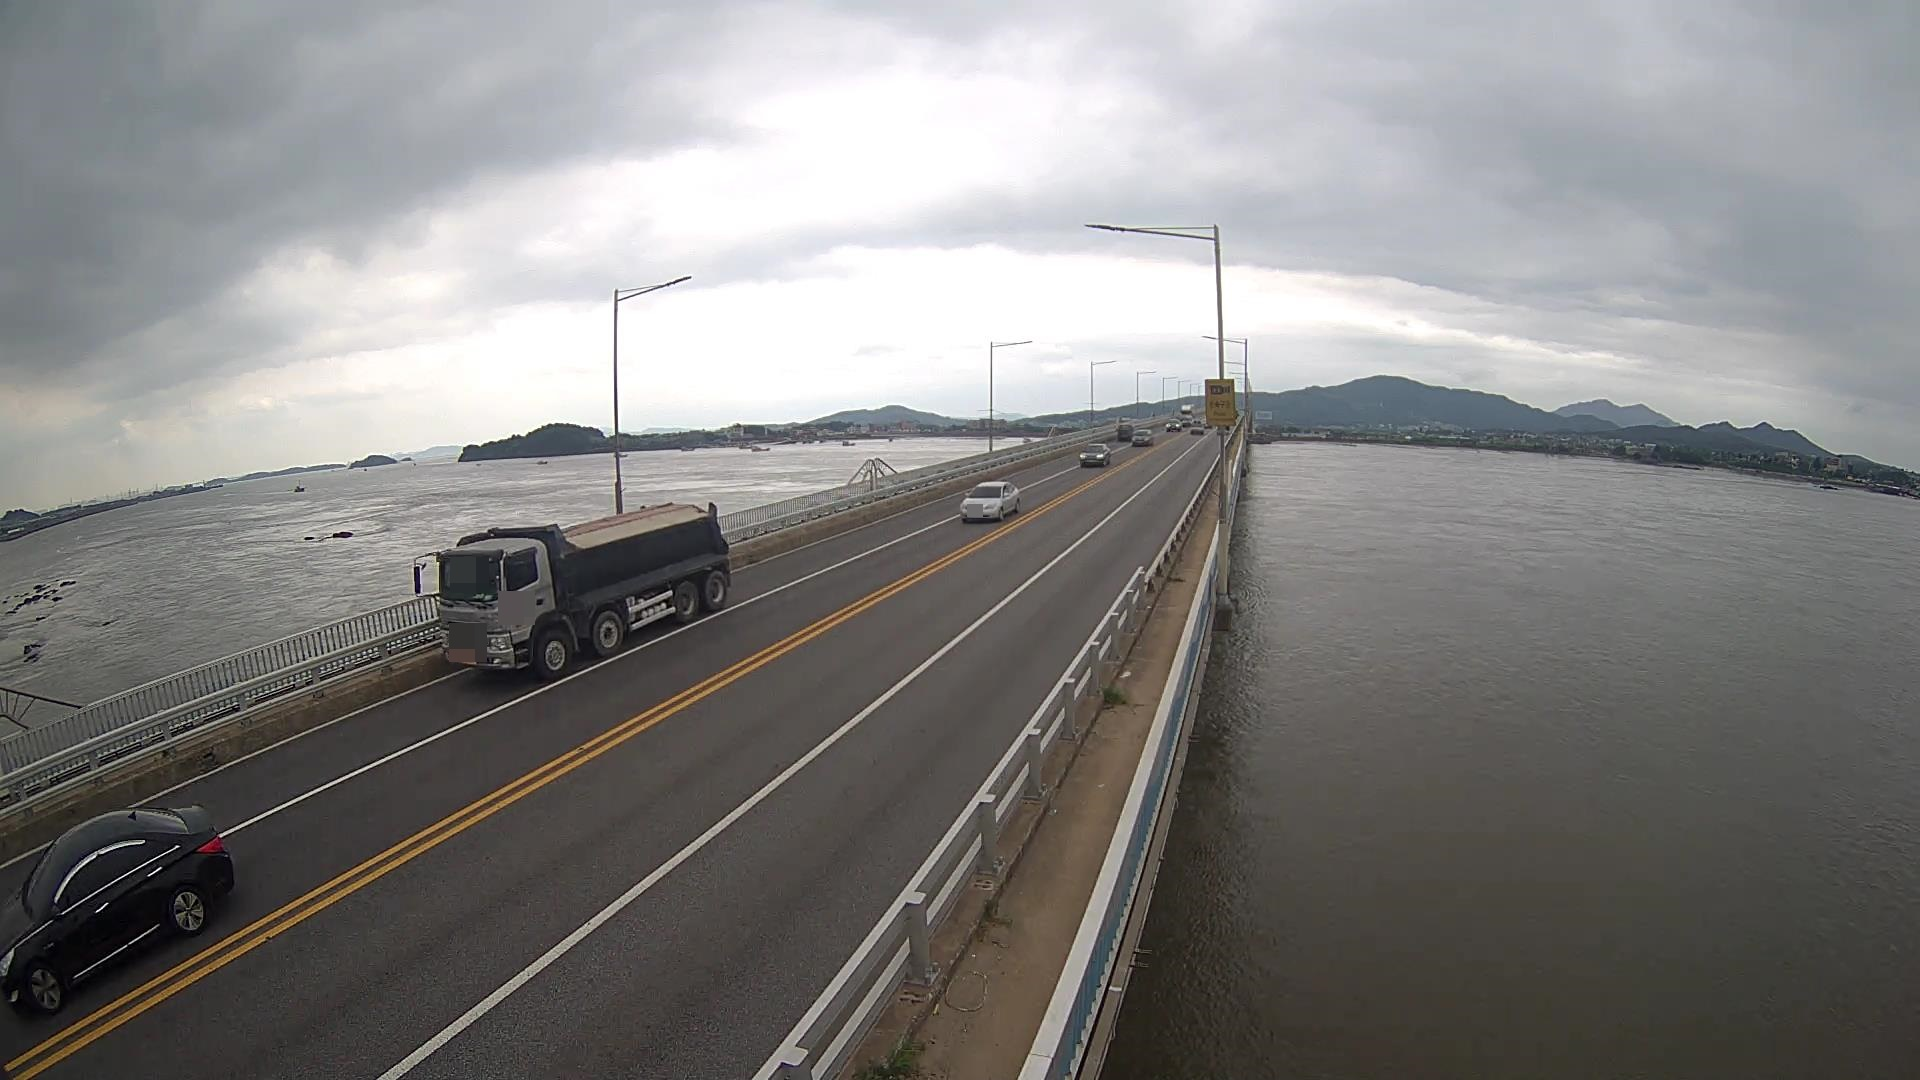정상차량: (413, 502, 732, 679)
